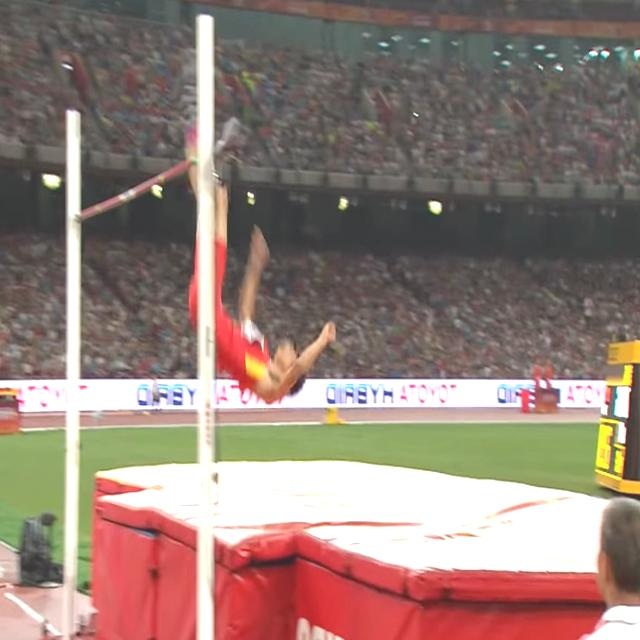land: (187, 117, 336, 403)
